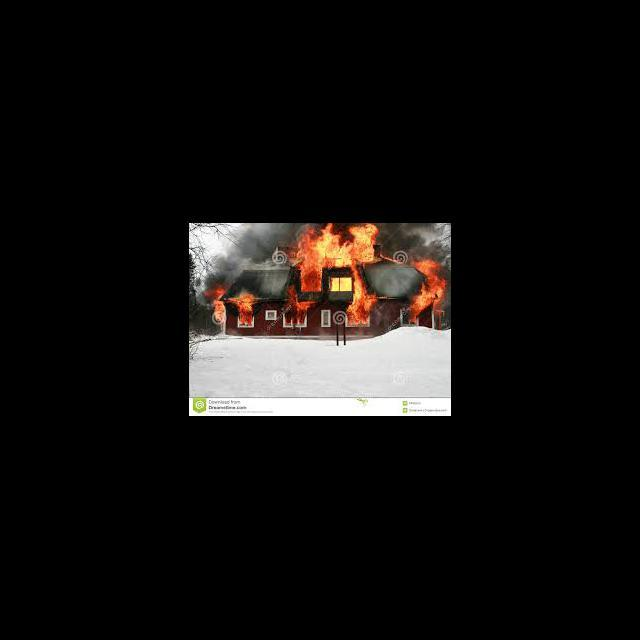Fire: (296, 223, 379, 264), (347, 295, 376, 327), (284, 294, 308, 328), (205, 290, 227, 324), (233, 294, 253, 328), (418, 280, 445, 305), (414, 260, 444, 282), (351, 264, 369, 298), (300, 265, 321, 292), (407, 298, 423, 324), (341, 278, 352, 291), (329, 278, 338, 292)
Smoke: (384, 226, 436, 250), (374, 267, 410, 295), (238, 229, 268, 261), (218, 261, 260, 283), (260, 266, 284, 291), (270, 225, 294, 246)
